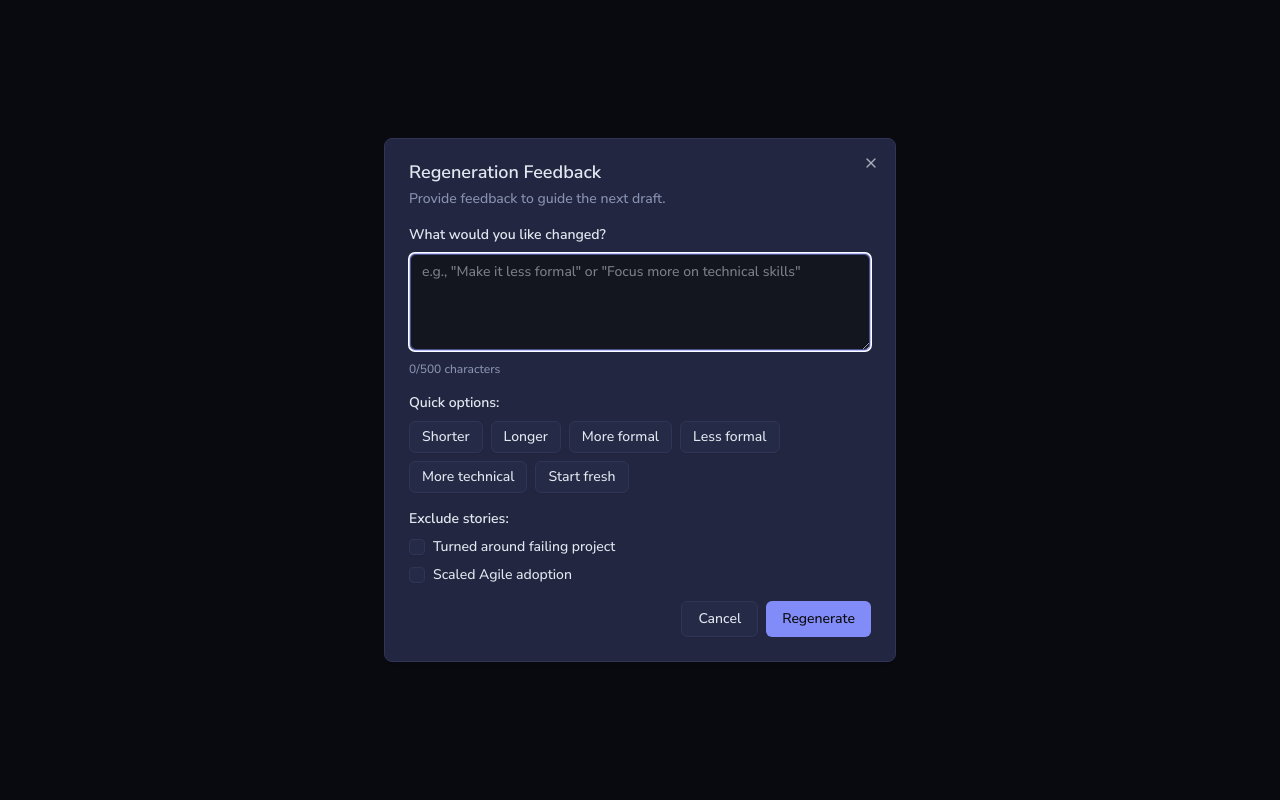
Test: RegenerationFeedbackModal › textarea interaction › updates character counter on typing
This screenshot has width=1280, height=800.
Type "Hello" into the text box labelled "What would you like changed?" at (640, 302), box [409,253,871,351]
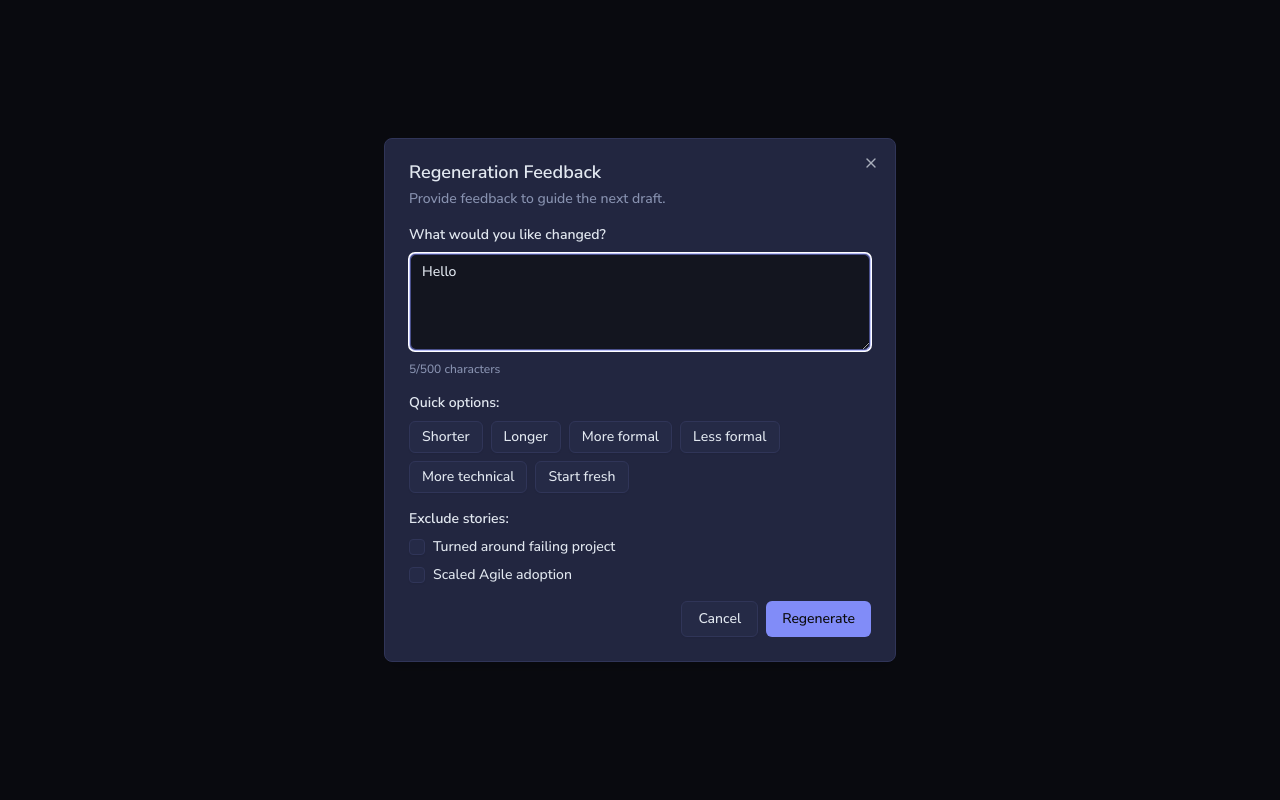
Now the text "5/500 characters" is shown, box [409,361,500,377]
